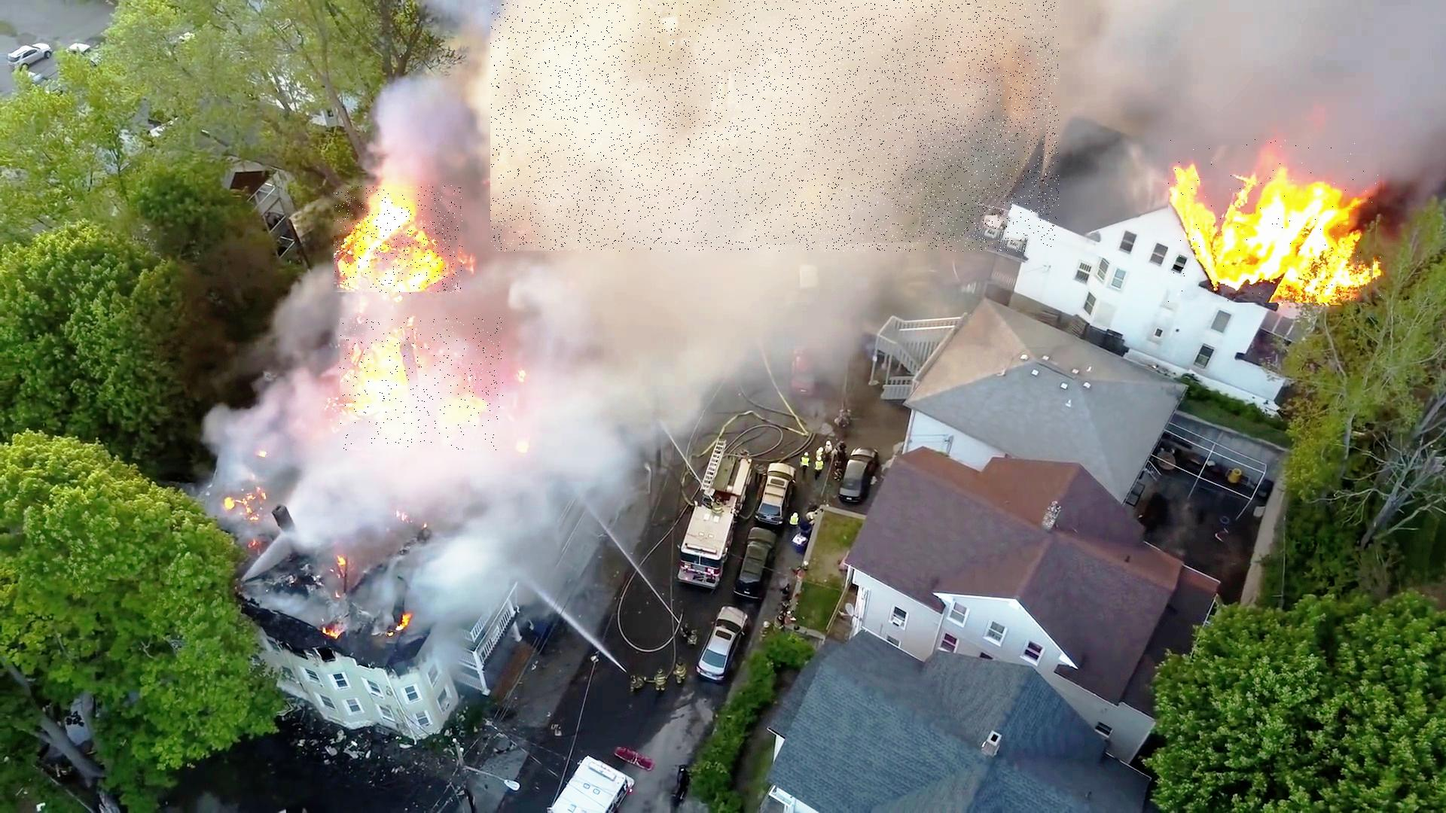fire: (1169, 140, 1383, 305), (340, 318, 504, 450), (334, 186, 462, 294)
smoke: (490, 0, 1059, 251)
